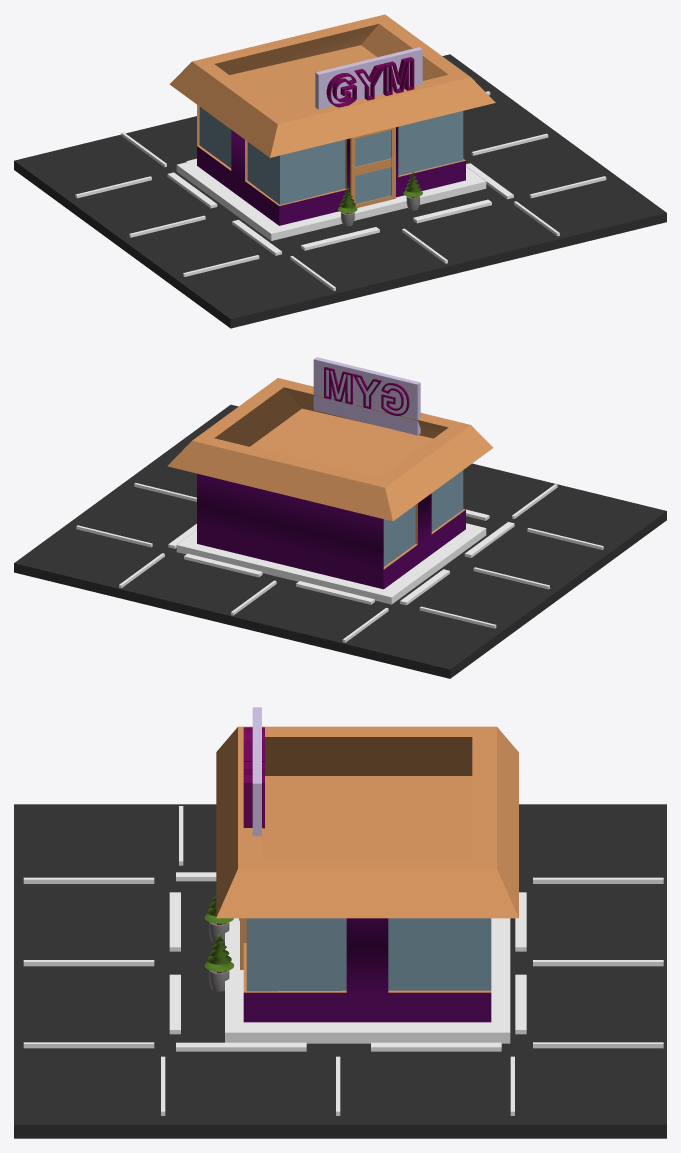
The picture shows the model from 3 angles, top to bottom: view 1: azimuth 30°, elevation 25°; view 2: azimuth 150°, elevation 25°; view 3: azimuth 270°, elevation 25°; orthographic projection. The views are drawn at different scales.
Parts seen in each view (by area): view 1: Box001, Object002, Box002, Text001, Object004, Object003; view 2: Box001, Box002, Object002, Text001, Object004, Object003; view 3: Box001, Object002, Object004, Object003, Text001, Box002.
Part boxes in pixels (bbox=[...]): Box001: bbox=[14, 24, 666, 328]; Object002: bbox=[192, 14, 384, 123]; Box002: bbox=[315, 47, 422, 109]; Text001: bbox=[326, 57, 414, 107]; Object004: bbox=[379, 14, 470, 77]; Object003: bbox=[278, 75, 469, 124]; Box001: bbox=[14, 387, 666, 678]; Box002: bbox=[313, 357, 420, 435]; Object002: bbox=[192, 425, 470, 487]; Text001: bbox=[324, 367, 409, 415]; Object004: bbox=[192, 378, 283, 440]; Object003: bbox=[278, 378, 469, 427]; Box001: bbox=[14, 727, 666, 1138]; Object002: bbox=[239, 726, 496, 868]; Object004: bbox=[238, 858, 496, 868]; Object003: bbox=[238, 726, 262, 868]; Text001: bbox=[243, 727, 264, 828]; Box002: bbox=[252, 707, 261, 836].
Bounding box in the file's own units: 194 × 65.77 × 167.
